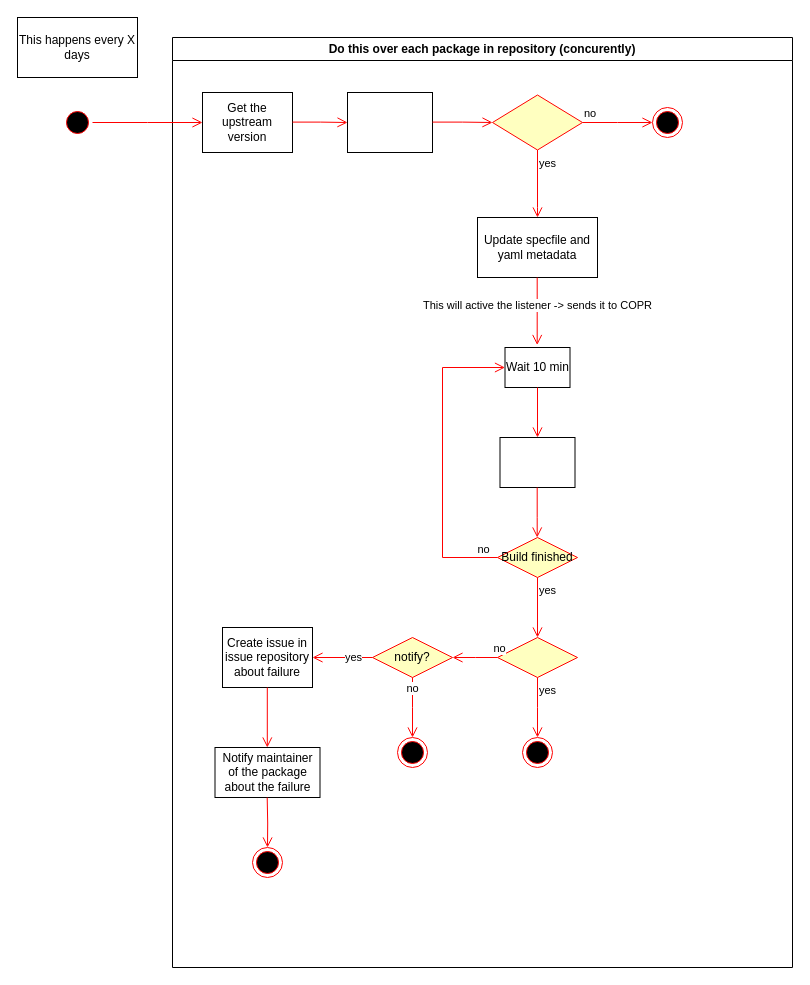
Some shapes in this 810 by 985 pixel diagram are drawn without their labels. The shapes that lost their labels are listed below. From the top down, each one's centre as x and y in pixels, then its label:
the point at 389,122: Get current version from yaml
the point at 537,122: upstream version > current version
the point at 537,462: Get COPR build state
the point at 537,657: Build succeeded
